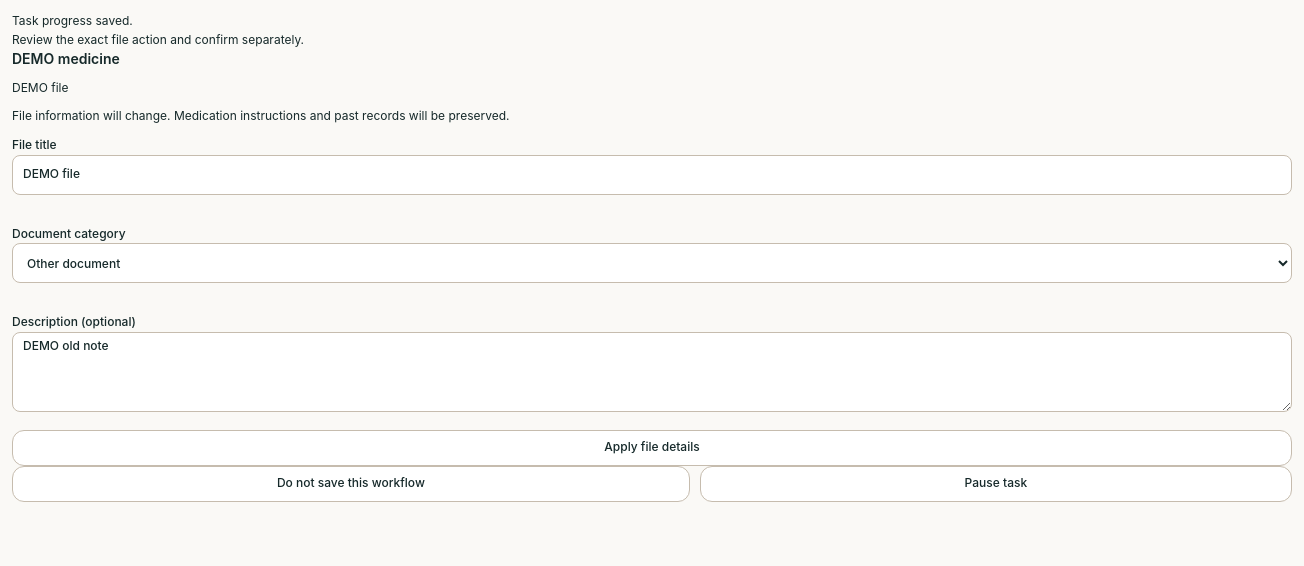
Scenario: collects existing native PDF fields and retains edits when applying a draft fails
Step 1. Replace the text in the field labelled "File title" with "DEMO entered title" → (652, 175), box [12, 155, 1292, 195]
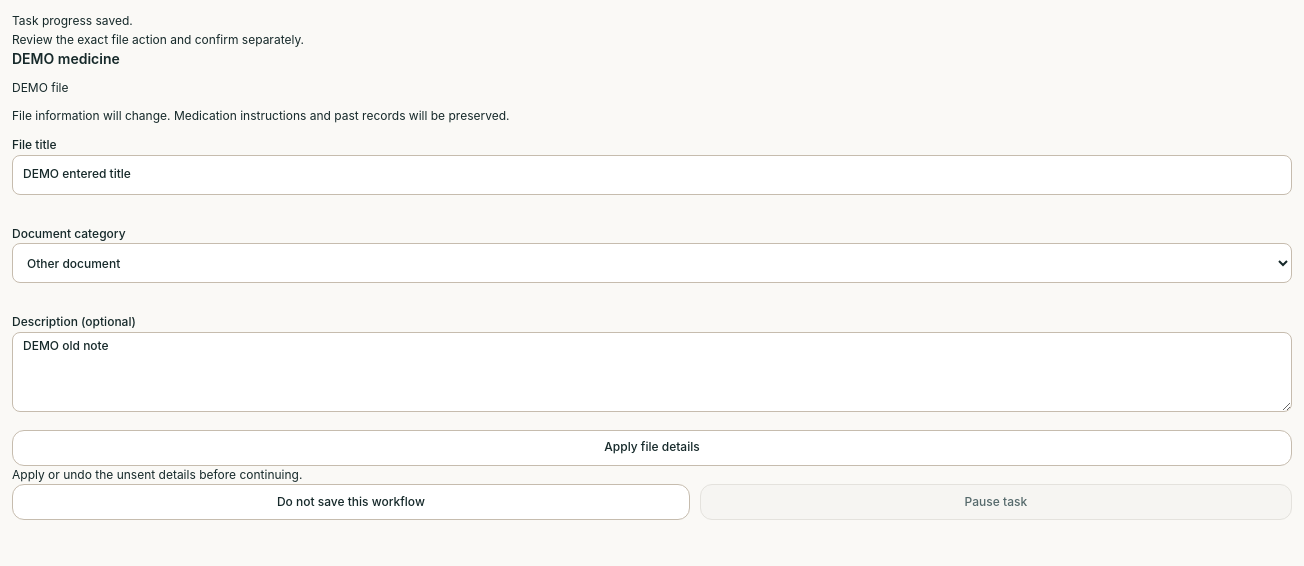
Step 2. Click the button "Apply file details" → click(652, 448), box [12, 430, 1292, 466]
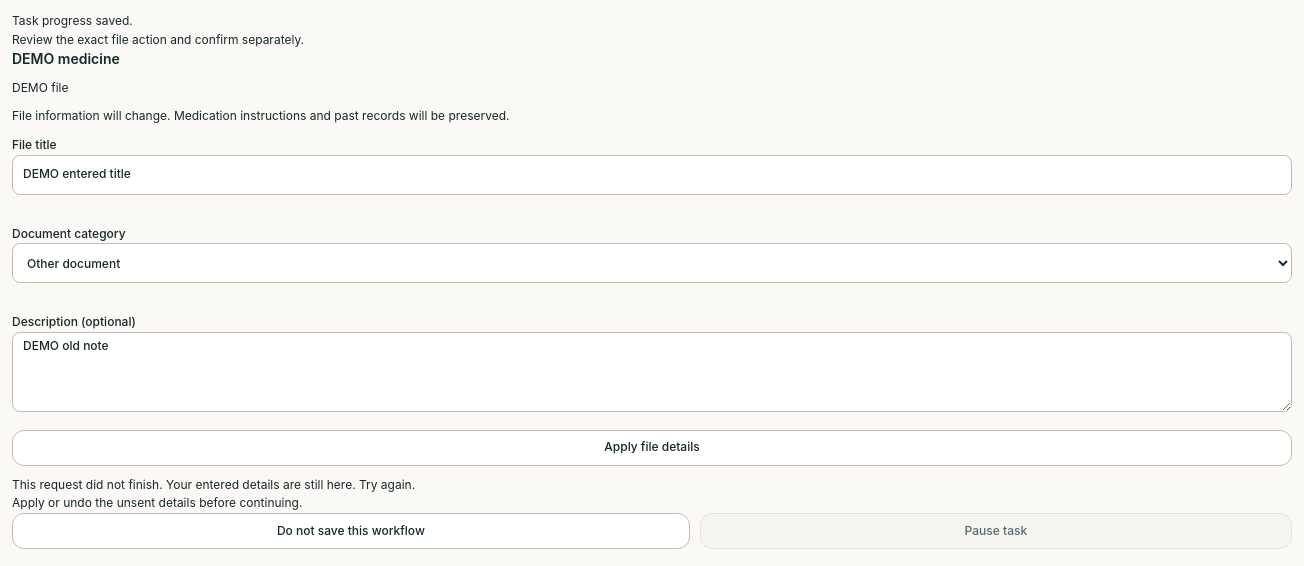
Expected: the message "This request did not finish. Your entered details are still here. Try again." is shown, [12, 477, 415, 492]
